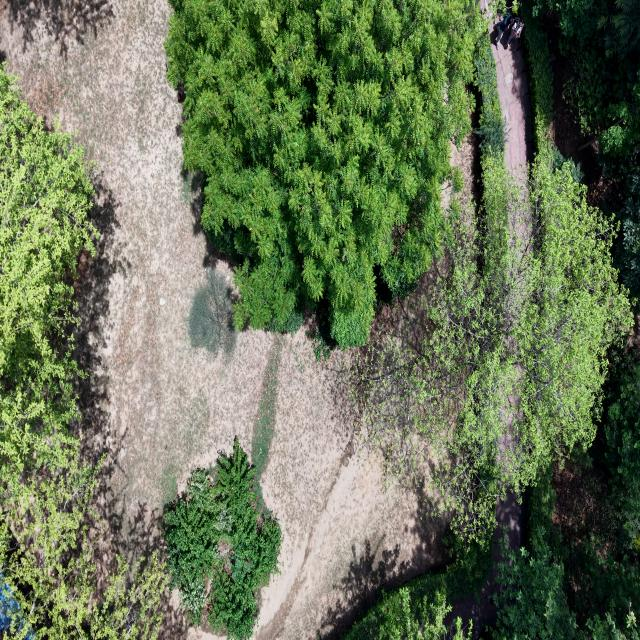DRY_AREA: (0, 0, 446, 639), (0, 1, 445, 639), (0, 2, 270, 527), (256, 335, 447, 639), (256, 449, 447, 639), (258, 461, 393, 639), (258, 462, 384, 639), (480, 0, 532, 271), (481, 0, 532, 264), (547, 25, 616, 205), (446, 491, 525, 639), (446, 491, 524, 639), (447, 491, 525, 639), (488, 10, 532, 266), (448, 491, 524, 636), (450, 492, 524, 636), (454, 491, 525, 637), (481, 0, 532, 200), (489, 10, 532, 195), (493, 39, 531, 188), (450, 108, 481, 226)
PATHWAYS: (445, 492, 524, 637), (446, 492, 524, 637)
VEGETATION_TREE: (166, 0, 639, 639), (345, 7, 639, 639), (345, 8, 638, 637), (360, 3, 639, 639), (354, 20, 632, 538), (166, 0, 483, 351), (355, 153, 632, 539), (0, 66, 163, 639), (353, 34, 516, 542), (488, 349, 639, 639), (490, 350, 639, 639), (503, 150, 632, 482), (0, 68, 94, 446), (0, 423, 164, 639), (529, 0, 639, 292), (538, 0, 639, 295), (490, 472, 639, 639), (164, 440, 281, 639), (536, 0, 639, 162), (342, 535, 492, 639), (490, 469, 576, 639), (164, 470, 220, 624), (491, 544, 578, 639), (344, 579, 471, 639), (605, 356, 639, 546), (252, 340, 281, 514), (522, 1, 553, 151), (610, 148, 639, 295), (188, 269, 236, 356), (475, 34, 505, 163), (599, 0, 639, 56)
